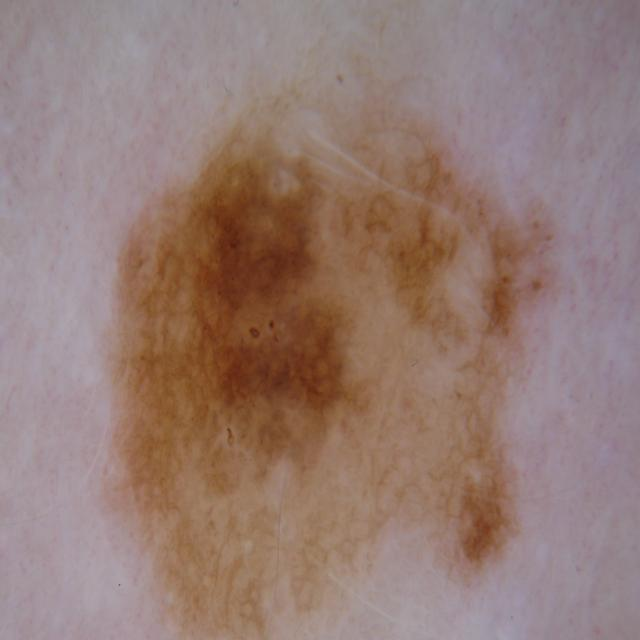Melanoma: (97, 92, 589, 640)
